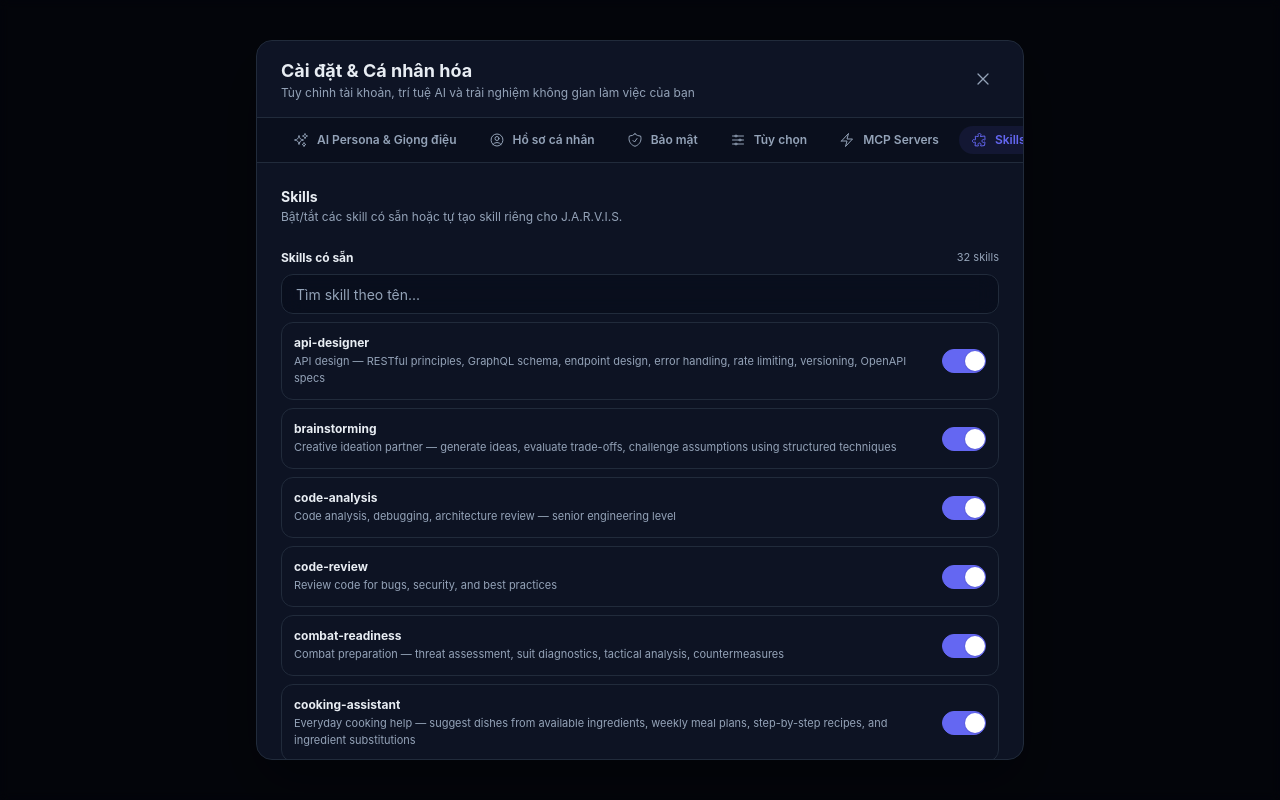
UserSettingsModal - avatar upload, MCP servers, skills › filters builtin skills by name via the search input
The image size is (1280, 800).
expect the text "api-designer" is shown: met, box [294, 335, 369, 351]
Type "code-review" into the field with placeholder "Tìm skill theo tên..." at (640, 294), box [281, 274, 999, 314]
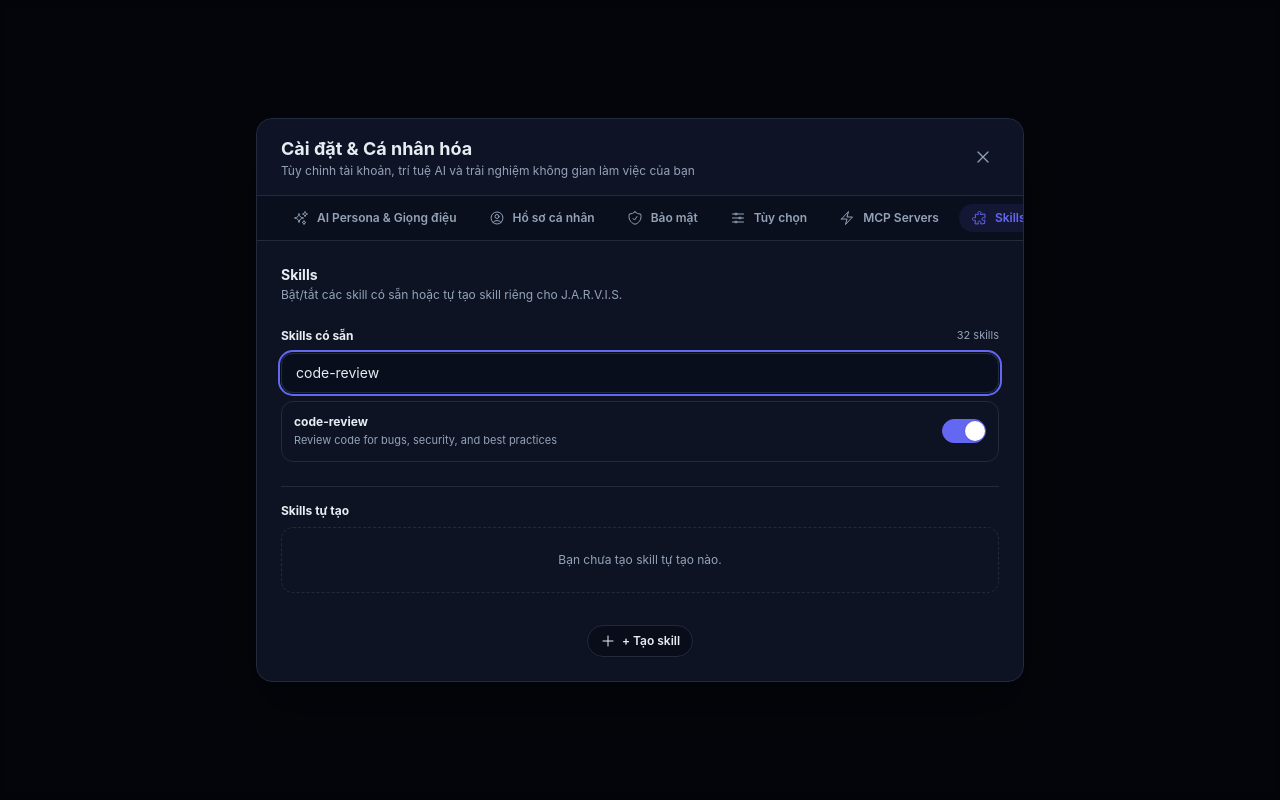
expect the text "code-review" is shown: met, box [294, 414, 368, 430]
expect the text "api-designer" is gone: met
